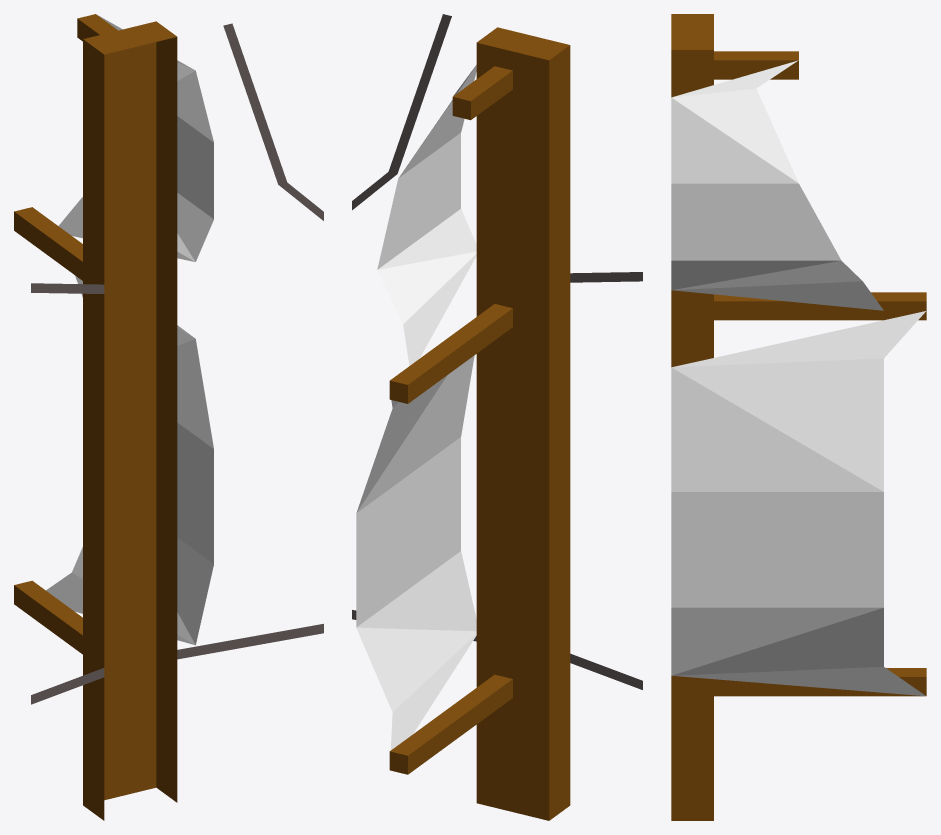
File: obj_sail_4_0.obj
The picture shows the model from 3 angles, left to right: view 1: azimuth 30°, elevation 25°; view 2: azimuth 150°, elevation 25°; view 3: azimuth 270°, elevation 25°; orthographic projection.
Bounding box in the file's own units: 2 × 5 × 1.5.
